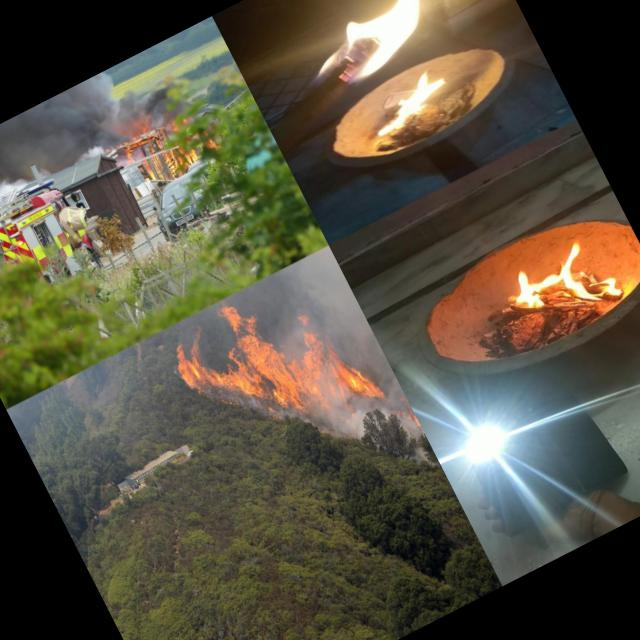fire: (158, 255, 394, 493), (281, 0, 471, 99), (498, 226, 628, 344), (365, 63, 459, 137), (396, 390, 432, 451), (148, 144, 185, 183), (120, 140, 146, 168), (180, 146, 203, 168)
smoke: (12, 56, 168, 182), (0, 118, 41, 237)
